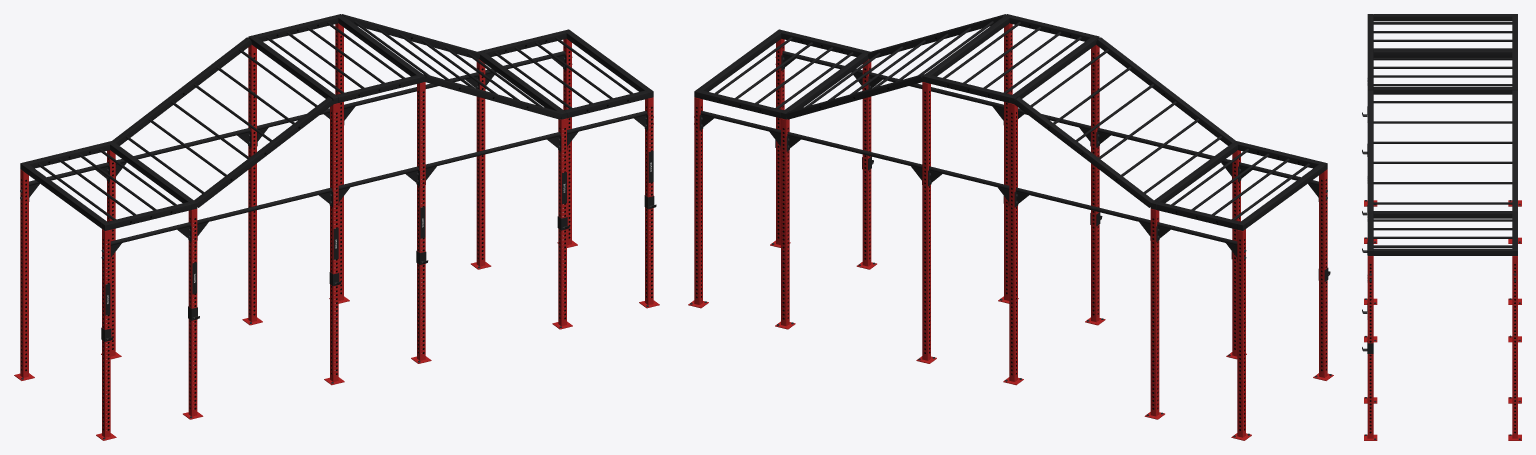
File: rogue-monster-lite-monkey-rig-2-0_v002.glb
3 renders of one model, left to right at view 1: azimuth 30°, elevation 25°; view 2: azimuth 150°, elevation 25°; view 3: azimuth 270°, elevation 25°, orthographic. The views are drawn at different scales.
Parts seen in each view (by area): view 1: rogue-monster-lite-monkey-rig-2-0_frame, rogue-monster-lite-monkey-rig-2-0_black.002, rogue-monster-lite-monkey-rig-2-0_black.003, rogue-monster-lite-monkey-rig-2-0_hole, rogue-monster-lite-monkey-rig-2-0_black; view 2: rogue-monster-lite-monkey-rig-2-0_frame, rogue-monster-lite-monkey-rig-2-0_black.002, rogue-monster-lite-monkey-rig-2-0_black.003, rogue-monster-lite-monkey-rig-2-0_hole, rogue-monster-lite-monkey-rig-2-0_black; view 3: rogue-monster-lite-monkey-rig-2-0_black.002, rogue-monster-lite-monkey-rig-2-0_black.003, rogue-monster-lite-monkey-rig-2-0_frame, rogue-monster-lite-monkey-rig-2-0_hole, rogue-monster-lite-monkey-rig-2-0_black.001, rogue-monster-lite-monkey-rig-2-0_black.
Part boxes in pixels (x1,y1,x2,y2): rogue-monster-lite-monkey-rig-2-0_frame: (14,23,659,440); rogue-monster-lite-monkey-rig-2-0_black.002: (23,14,650,229); rogue-monster-lite-monkey-rig-2-0_black.003: (29,21,647,256); rogue-monster-lite-monkey-rig-2-0_hole: (21,24,652,430); rogue-monster-lite-monkey-rig-2-0_black: (29,55,656,341); rogue-monster-lite-monkey-rig-2-0_frame: (688,23,1333,440); rogue-monster-lite-monkey-rig-2-0_black.002: (697,14,1324,229); rogue-monster-lite-monkey-rig-2-0_black.003: (700,21,1318,256); rogue-monster-lite-monkey-rig-2-0_hole: (696,24,1326,430); rogue-monster-lite-monkey-rig-2-0_black: (699,55,1330,281); rogue-monster-lite-monkey-rig-2-0_black.002: (1367,14,1517,255); rogue-monster-lite-monkey-rig-2-0_black.003: (1373,22,1512,247); rogue-monster-lite-monkey-rig-2-0_frame: (1364,200,1521,440); rogue-monster-lite-monkey-rig-2-0_hole: (1369,264,1515,433); rogue-monster-lite-monkey-rig-2-0_black.001: (1367,14,1517,255); rogue-monster-lite-monkey-rig-2-0_black: (1362,106,1373,353).
Size of the model in its own units: 7.49 by 3.66 by 2.11.
